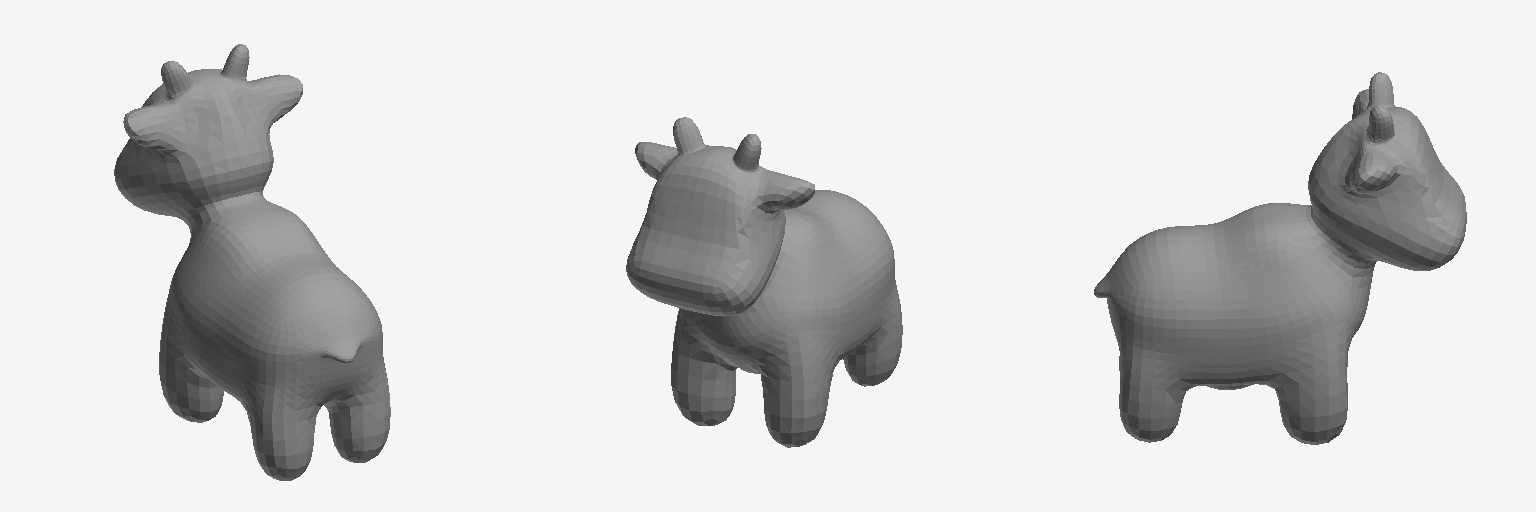
Rendered from spot.obj.
3 views of the same model, side by side, from view 1: azimuth 30°, elevation 25°; view 2: azimuth 150°, elevation 25°; view 3: azimuth 270°, elevation 25° (orthographic).
Bounding box in the file's own units: 0.9431 × 1.69 × 1.72.